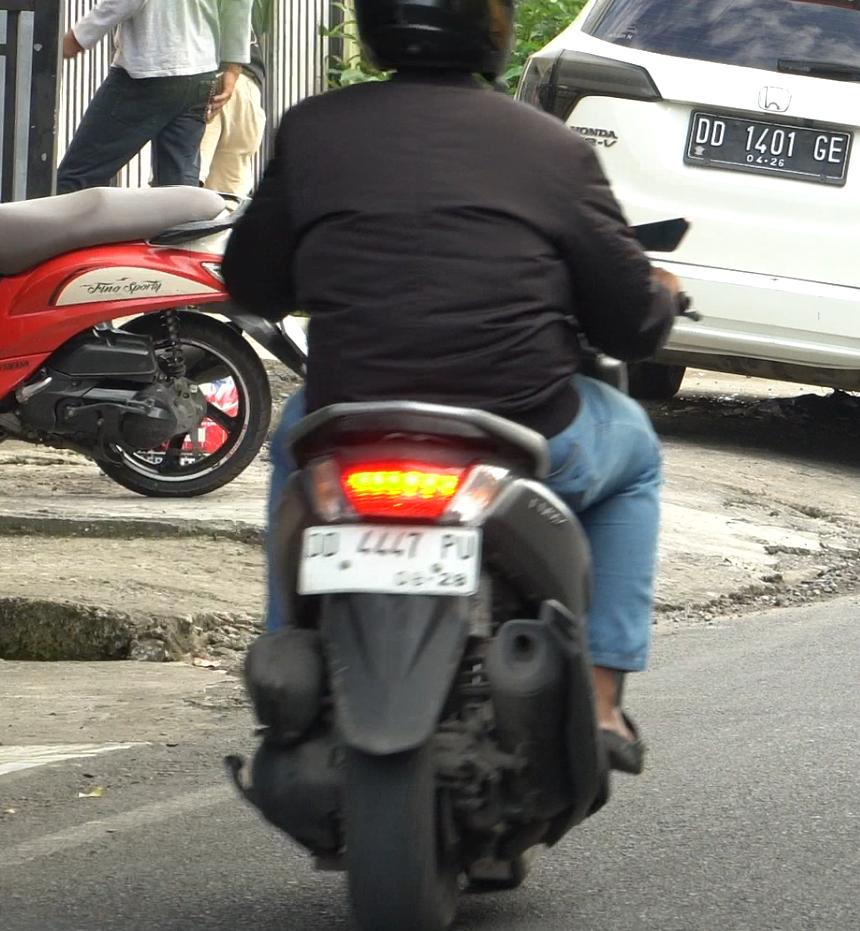number-plate: (288, 524, 497, 594)
